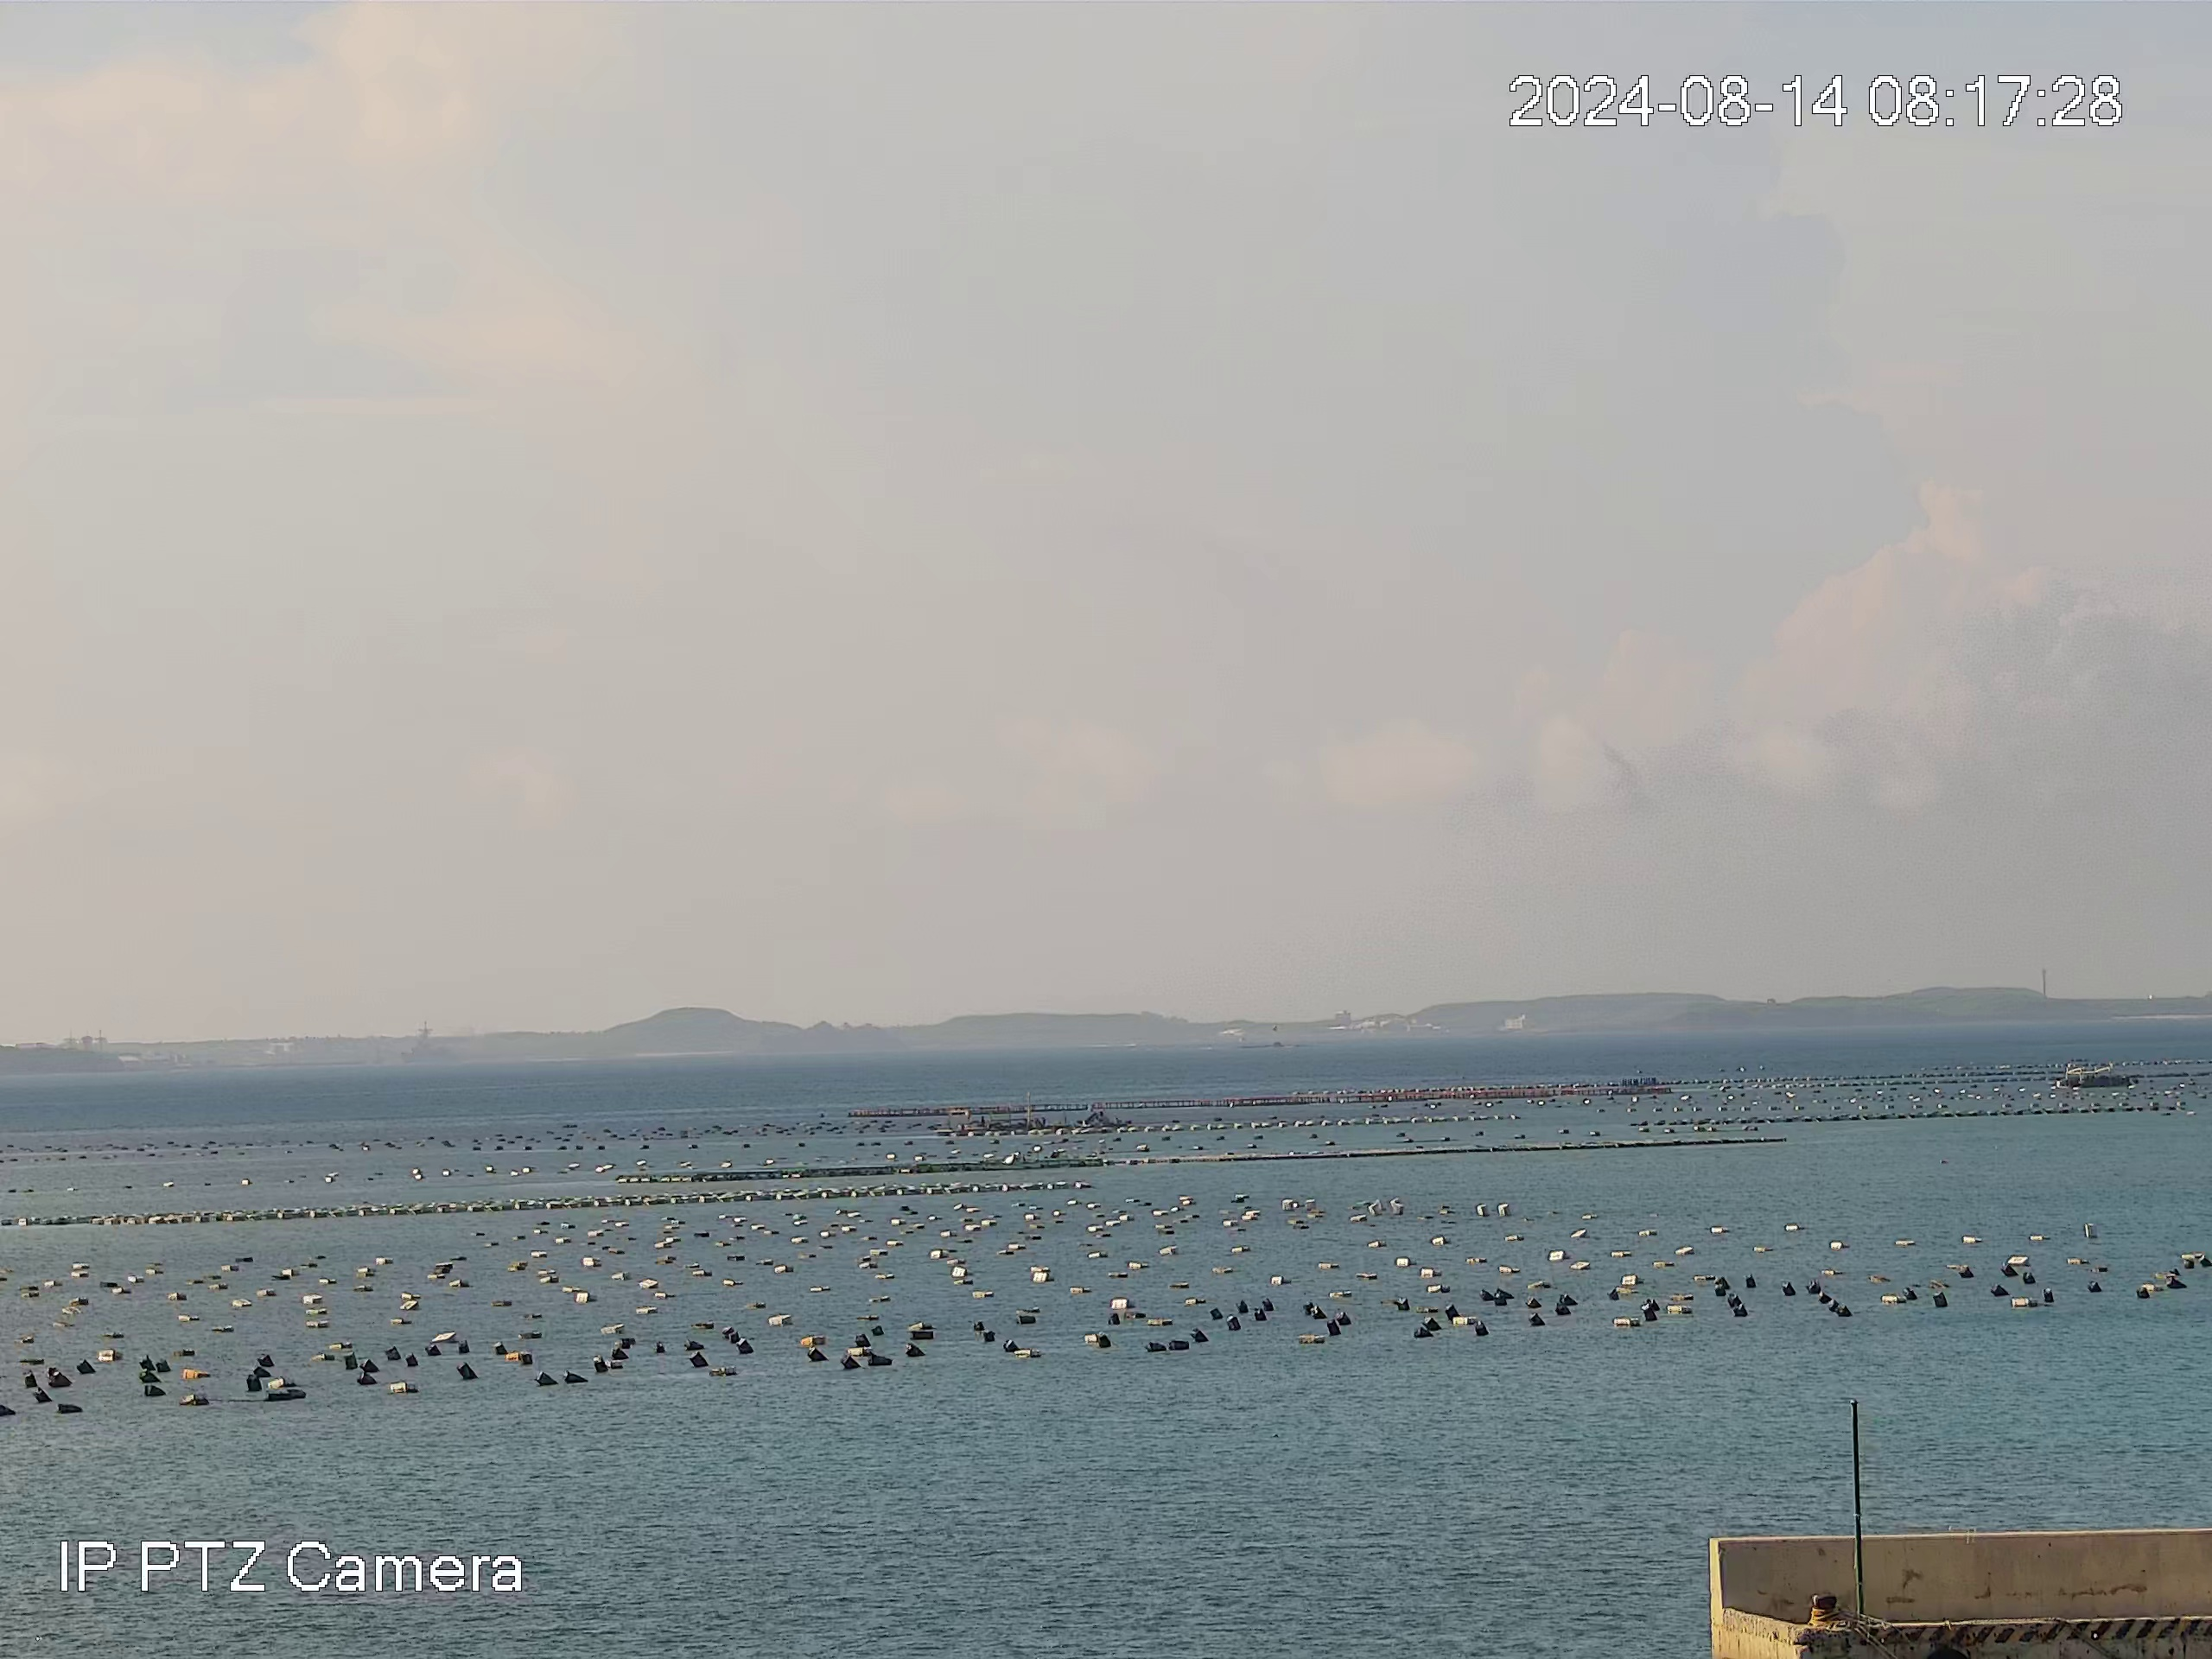boat: (2055, 1065, 2135, 1089)
